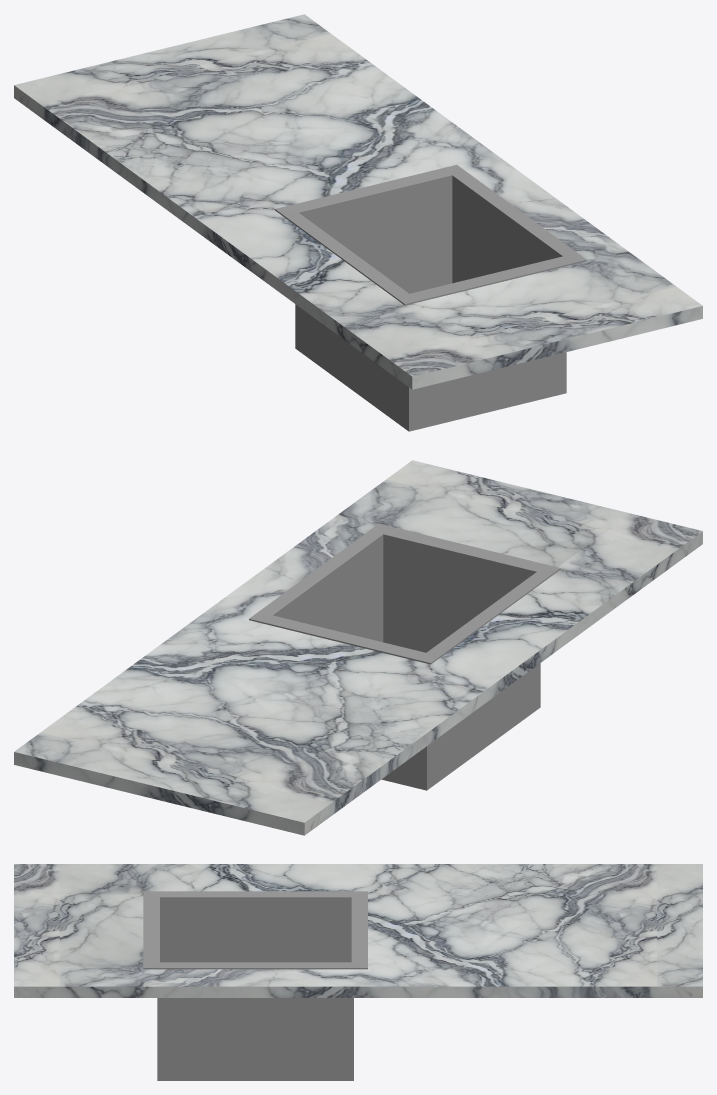
Rendered from countertop-one.glb.
3 views of the same model, one above another, from view 1: azimuth 30°, elevation 25°; view 2: azimuth 150°, elevation 25°; view 3: azimuth 270°, elevation 25° (orthographic). The views are drawn at different scales.
Visible parts, largest first — view 1: Cube.018; view 2: Cube.018; view 3: Cube.018.
Boxes of the visible parts, bbox=[...] form: Cube.018: bbox=[14, 14, 702, 431]; Cube.018: bbox=[14, 460, 702, 835]; Cube.018: bbox=[14, 864, 702, 1080].
Size of the model in its own units: 0.4699 by 0.2109 by 1.12.
Materials: 2 (1 with a texture image).
